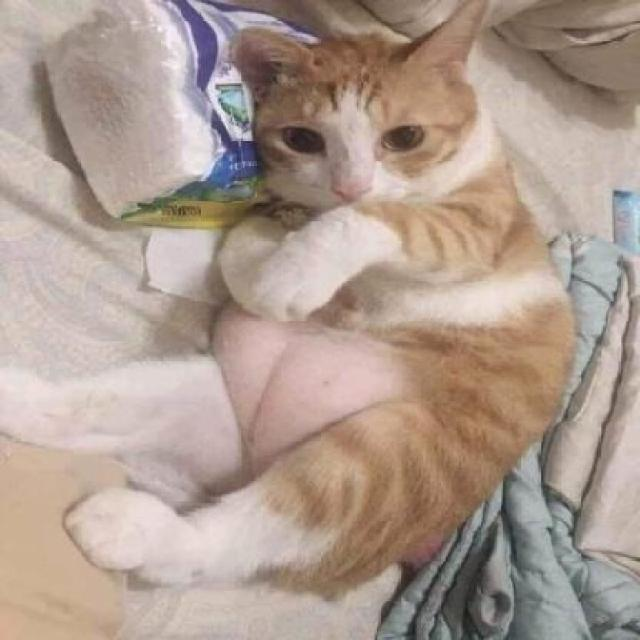cat: (103, 0, 557, 592)
